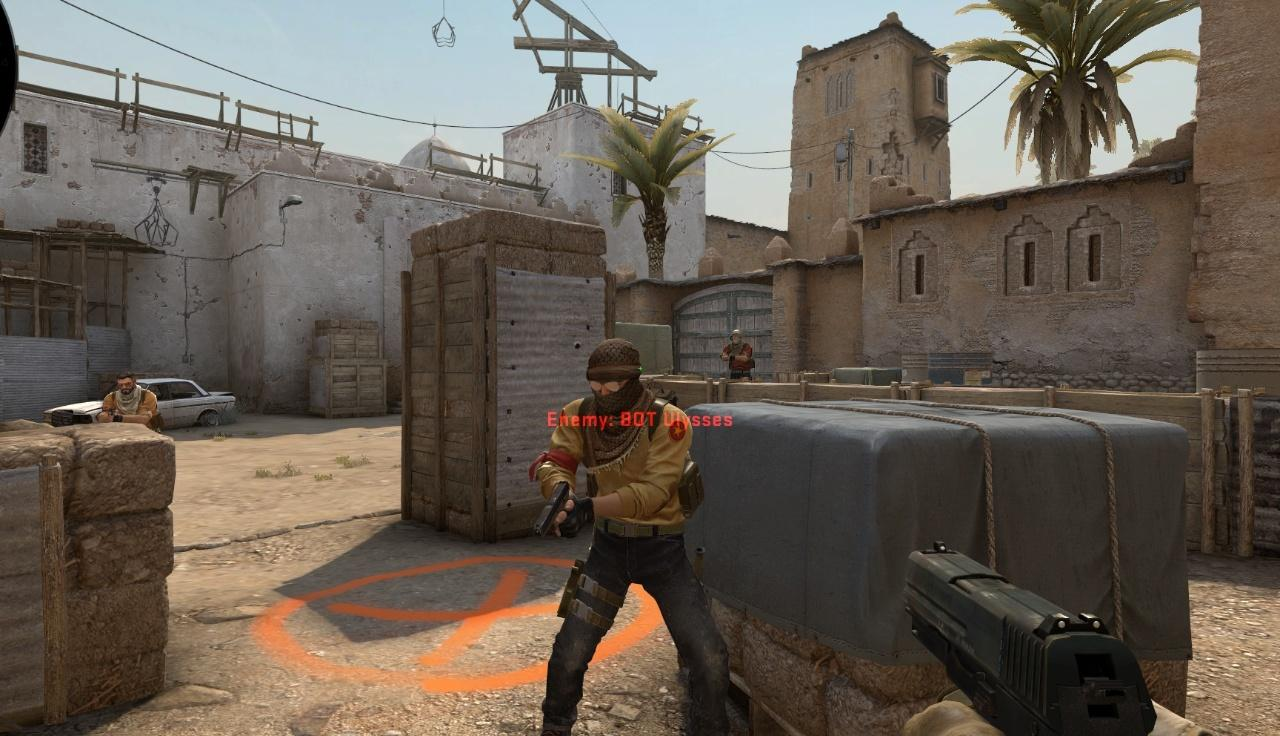pistol: (898, 541, 1228, 736)
tt: (529, 338, 732, 736), (97, 371, 163, 435), (721, 329, 754, 383)
tthead: (586, 339, 642, 415), (117, 373, 136, 394), (731, 330, 742, 344)
